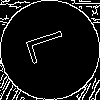L: (25, 25, 77, 65)
